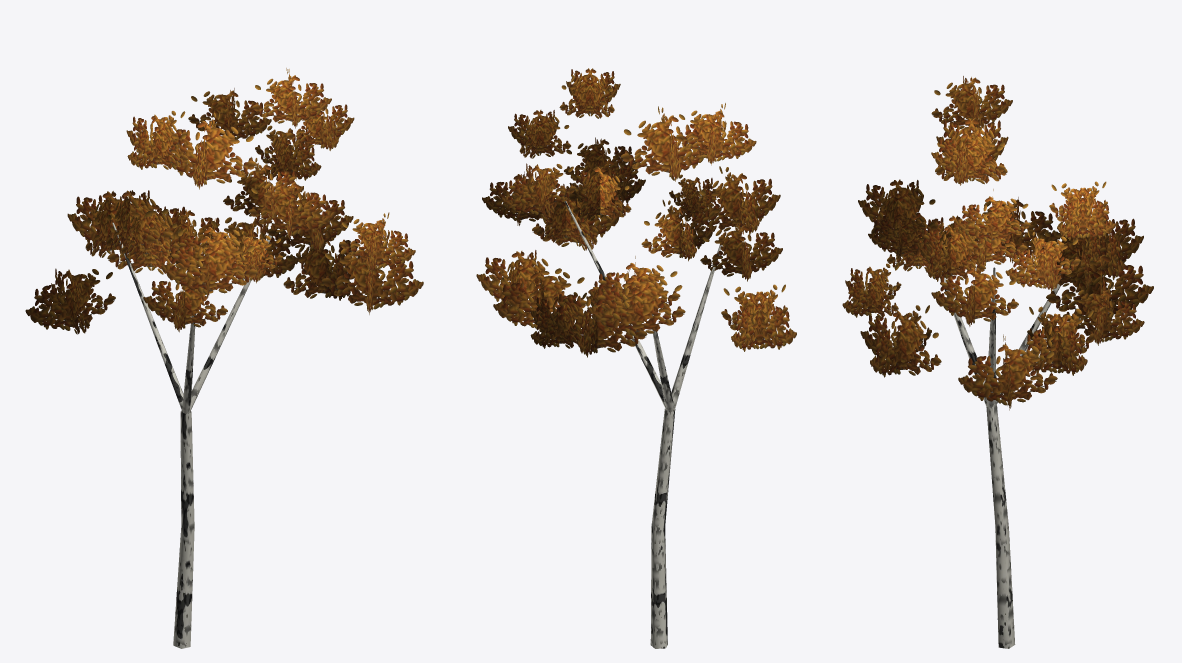
The model's file is birch1_autumn_lod1.fbx.
3 renders of one model, left to right at view 1: azimuth 30°, elevation 25°; view 2: azimuth 150°, elevation 25°; view 3: azimuth 270°, elevation 25°, orthographic. The views are drawn at different scales.
Visible parts, largest first — view 1: birch1_autumn_lod1; view 2: birch1_autumn_lod1; view 3: birch1_autumn_lod1.
Boxes of the visible parts, bbox=[...] form: birch1_autumn_lod1: bbox=[25, 68, 423, 648]; birch1_autumn_lod1: bbox=[476, 68, 796, 648]; birch1_autumn_lod1: bbox=[842, 76, 1153, 648].
Size of the model in its own units: 9.19 by 14.75 by 7.47.
2 materials, 2 textured.
